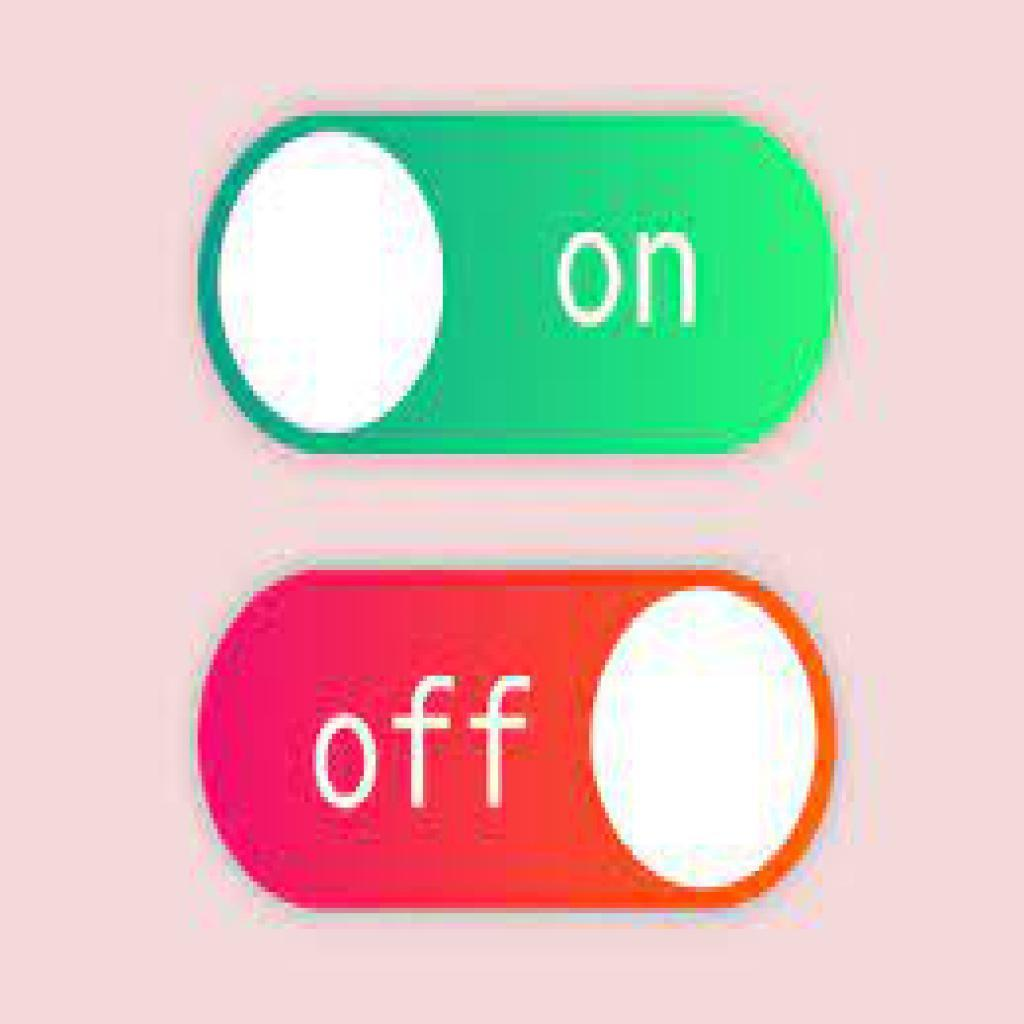switch: (188, 548, 852, 926), (188, 94, 849, 465)
